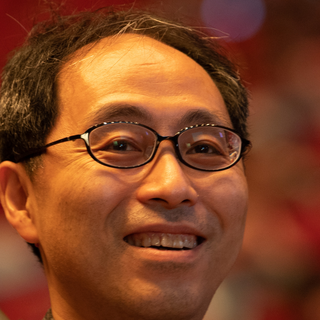eye: (184, 141, 228, 165), (101, 136, 144, 160)
